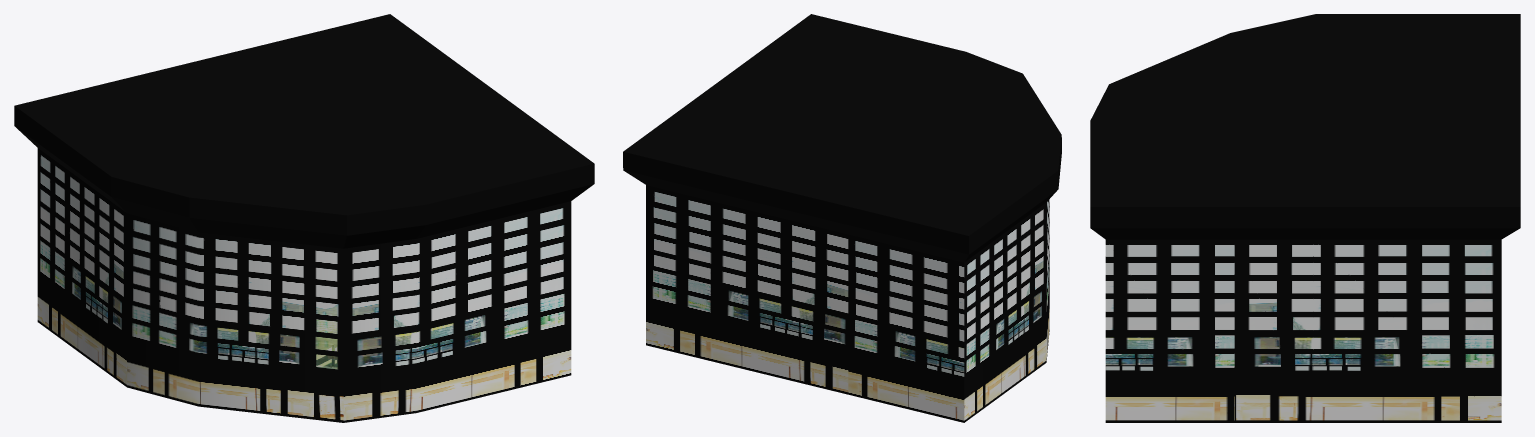
Rendered from building21.FBX.
3 views of the same model, side by side, from view 1: azimuth 30°, elevation 25°; view 2: azimuth 150°, elevation 25°; view 3: azimuth 270°, elevation 25° (orthographic). The views are drawn at different scales.
Parts seen in each view (by area): view 1: Box002; view 2: Box002; view 3: Box002.
Boxes of the visible parts, box(x1,y1,x2,y2) form: Box002: box(14, 14, 594, 422); Box002: box(623, 14, 1061, 422); Box002: box(1090, 14, 1520, 422).
Size of the model in its own units: 302 by 163 by 284.
